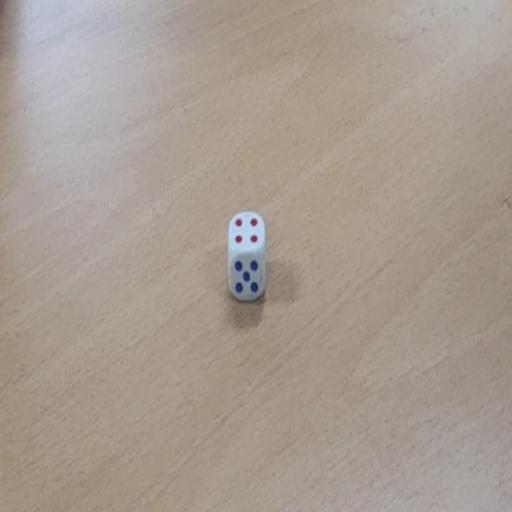dice_4: (227, 211, 267, 303)
